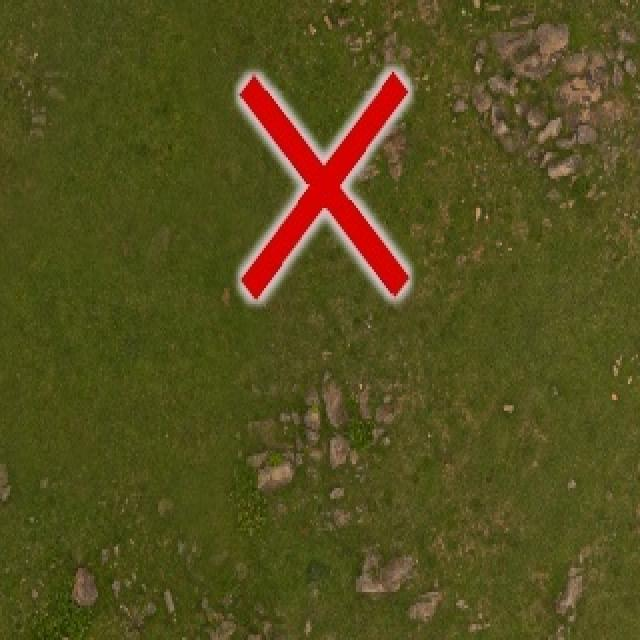x_marker: (239, 71, 407, 297)
